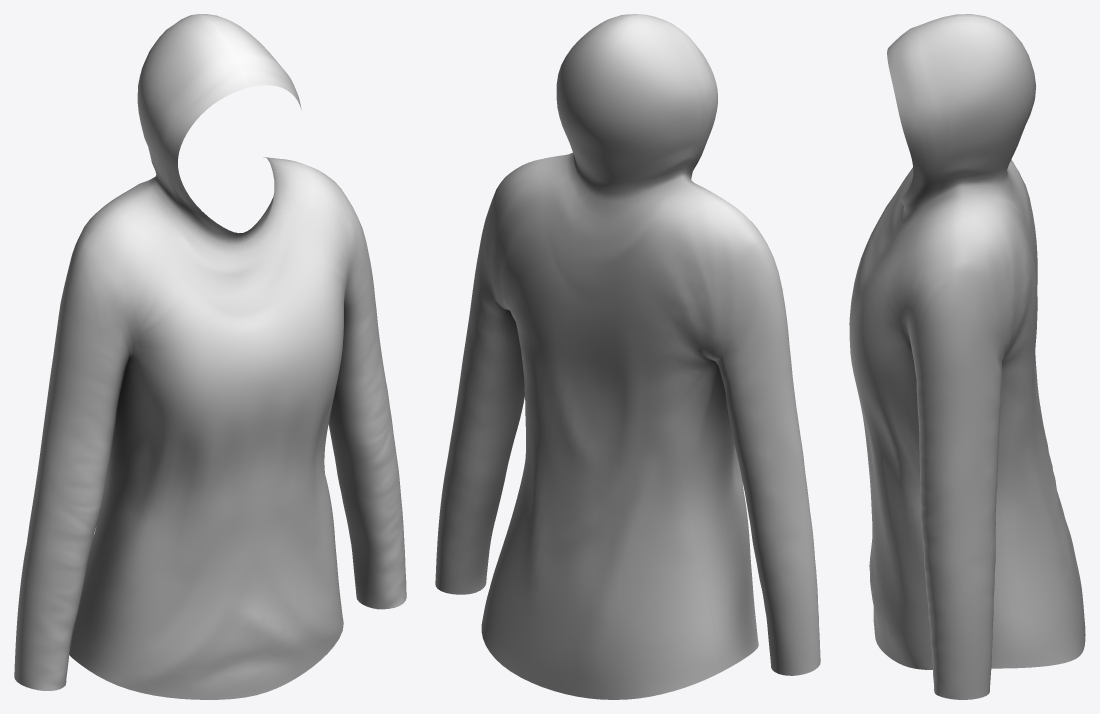
File: long-sleeve-hitting-tees-with-hood.glb
3 renders of one model, left to right at view 1: azimuth 30°, elevation 25°; view 2: azimuth 150°, elevation 25°; view 3: azimuth 270°, elevation 25°, orthographic. The views are drawn at different scales.
Parts seen in each view (by area): view 1: 31106-women-long-sleeve-sub-warmup-w-hood; view 2: 31106-women-long-sleeve-sub-warmup-w-hood; view 3: 31106-women-long-sleeve-sub-warmup-w-hood.
Part boxes in pixels (left/top/right/bottom): 31106-women-long-sleeve-sub-warmup-w-hood: left=14, top=14, right=406, bottom=699; 31106-women-long-sleeve-sub-warmup-w-hood: left=435, top=14, right=820, bottom=699; 31106-women-long-sleeve-sub-warmup-w-hood: left=849, top=14, right=1085, bottom=699.
Bounding box in the file's own units: 5.12 × 8.18 × 2.83.
5 materials, 5 textured.
